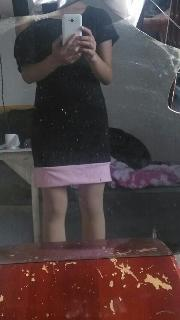short sleeve dress: (13, 6, 121, 188)
